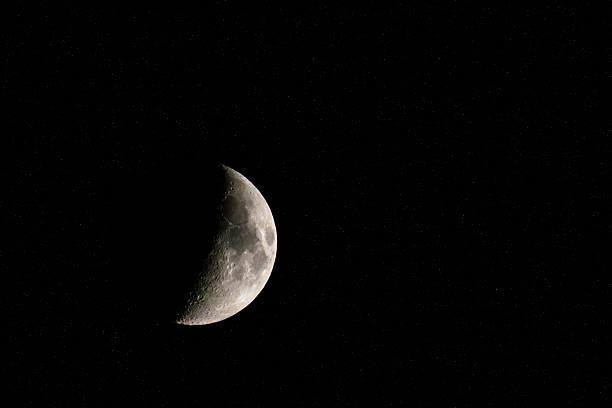moon: (109, 156, 278, 329)
